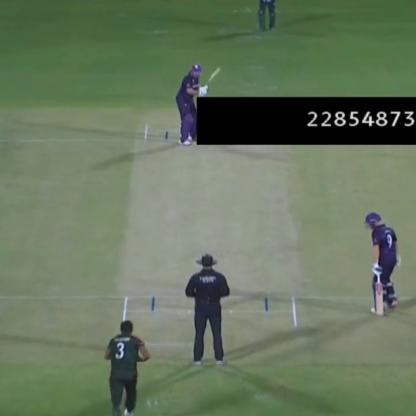pitch: (108, 121, 309, 346)
